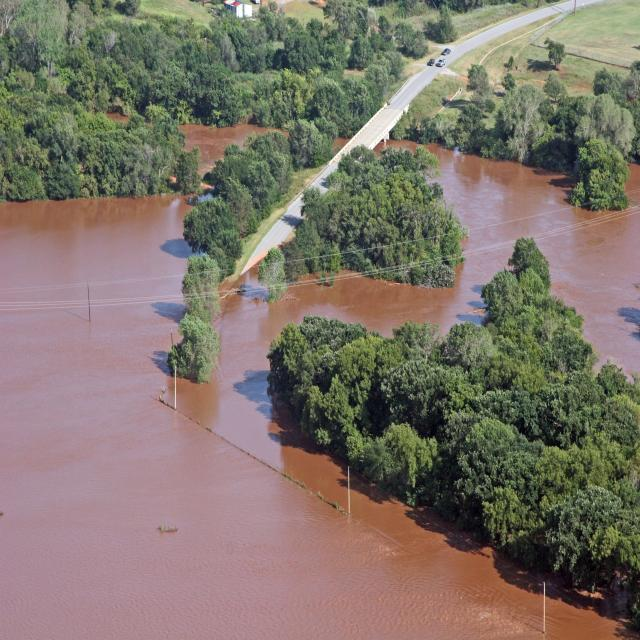flooded_areas: (172, 247, 570, 621), (0, 105, 222, 639)
